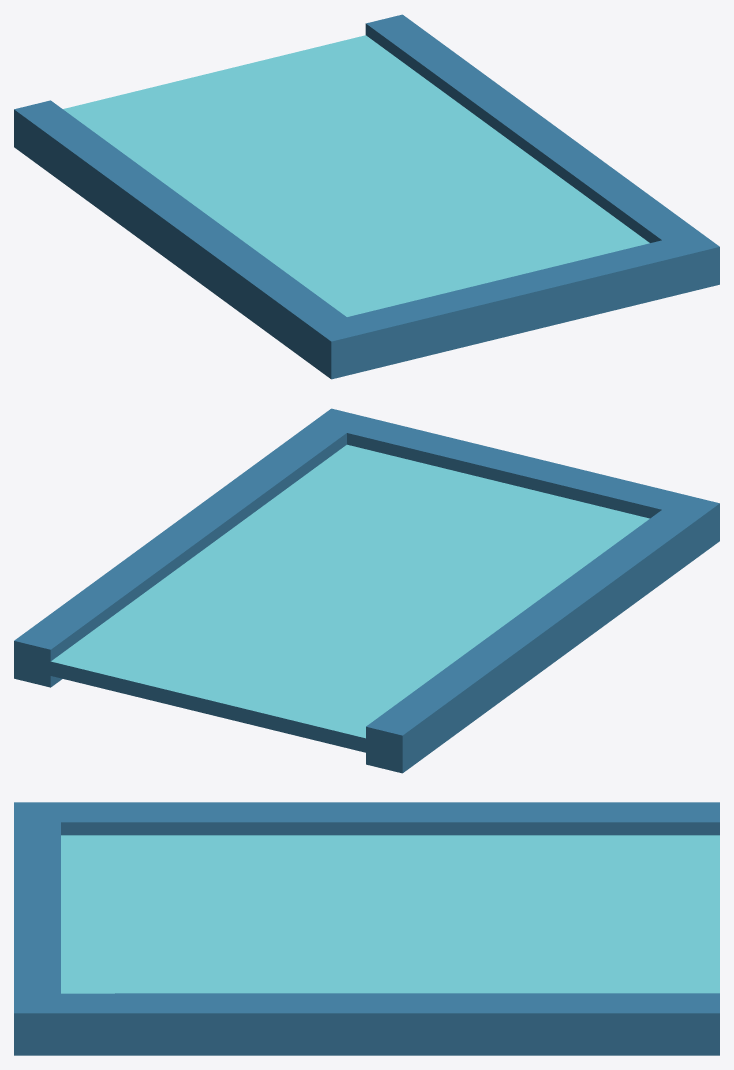
The model's file is Ground2_Blue.fbx.
The picture shows the model from 3 angles, top to bottom: view 1: azimuth 30°, elevation 25°; view 2: azimuth 150°, elevation 25°; view 3: azimuth 270°, elevation 25°; orthographic projection. The views are drawn at different scales.
Visible parts, largest first — view 1: Cube.020; view 2: Cube.020; view 3: Cube.020.
Boxes of the visible parts, box(x1,y1,x2,y2) form: Cube.020: box(14, 14, 719, 379); Cube.020: box(14, 408, 719, 773); Cube.020: box(14, 802, 719, 1055).
Bounding box in the file's own units: 6.28 × 8.88 × 0.5843.
